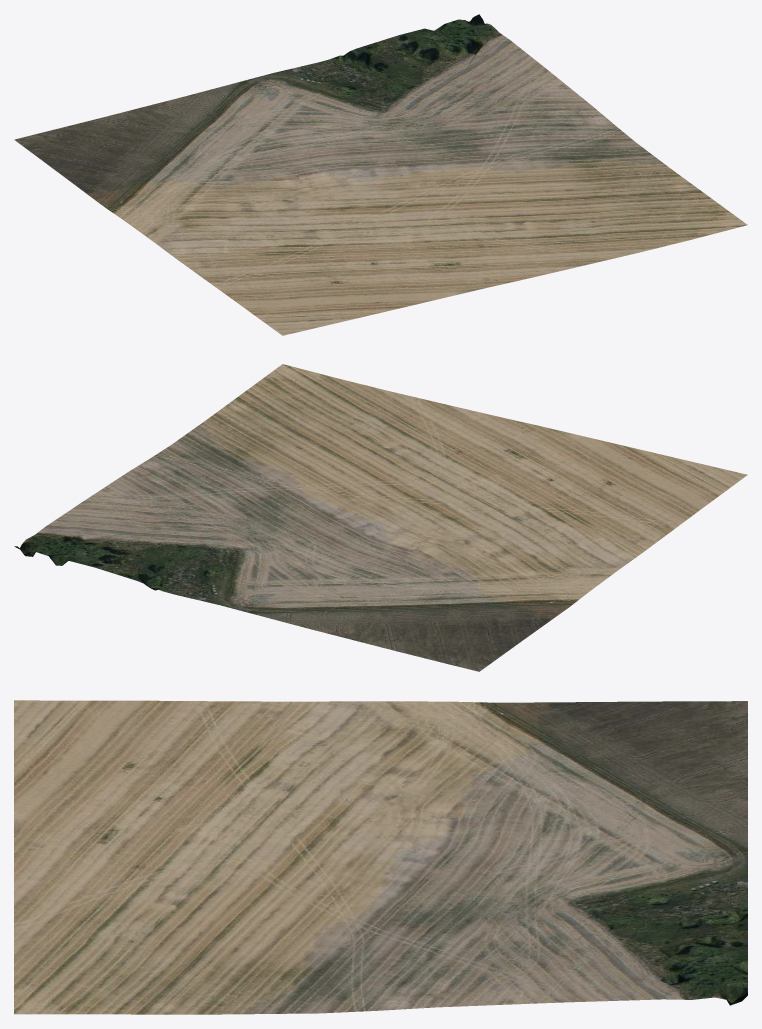
The model's file is map_13_2045_3442.dae.
3 renders of one model, top to bottom at view 1: azimuth 30°, elevation 25°; view 2: azimuth 150°, elevation 25°; view 3: azimuth 270°, elevation 25°, orthographic. The views are drawn at different scales.
Visible parts, largest first — view 1: Ter0; view 2: Ter0; view 3: Ter0.
Boxes of the visible parts, x1,y1,x2,y2 form: Ter0: (14,14,747,335); Ter0: (14,364,747,671); Ter0: (14,700,747,1014).
Size of the model in its own units: 256 by 256 by 8.2.
Materials: 3 (3 with a texture image).
